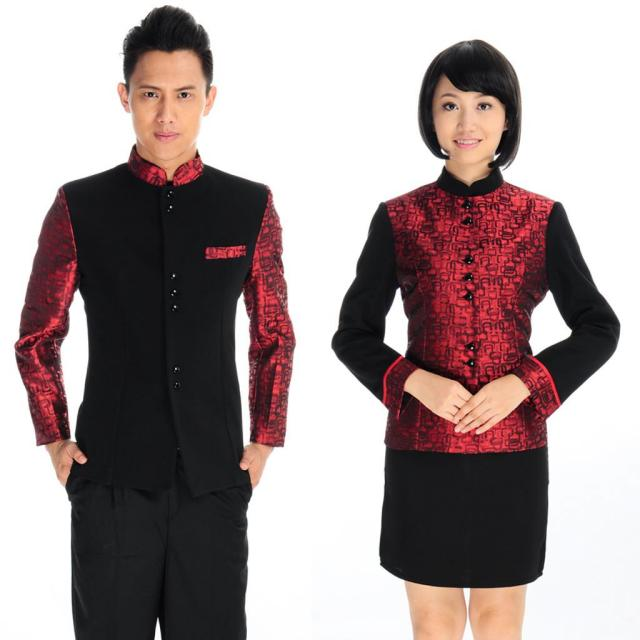nomask: (132, 48, 206, 158), (432, 70, 503, 164)
